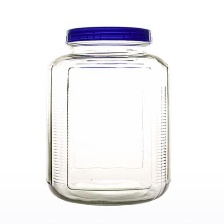bottle: (42, 21, 174, 208)
